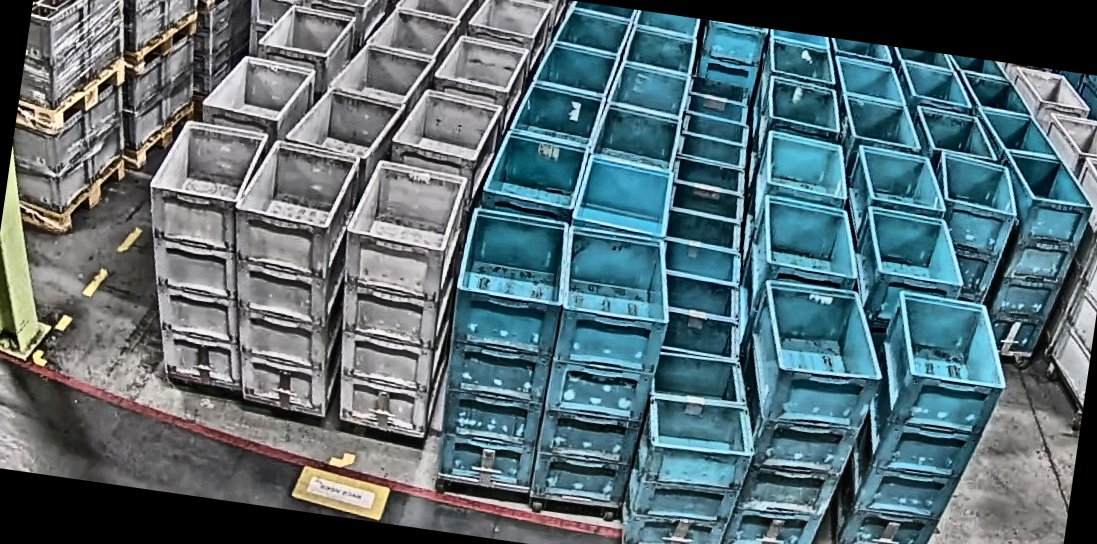4G: (208, 133, 372, 415), (318, 155, 472, 437), (122, 115, 280, 389)
B4: (828, 285, 1019, 544), (715, 275, 894, 544), (527, 225, 684, 511), (428, 205, 578, 489), (916, 149, 1027, 307)
B8: (615, 348, 769, 544)
